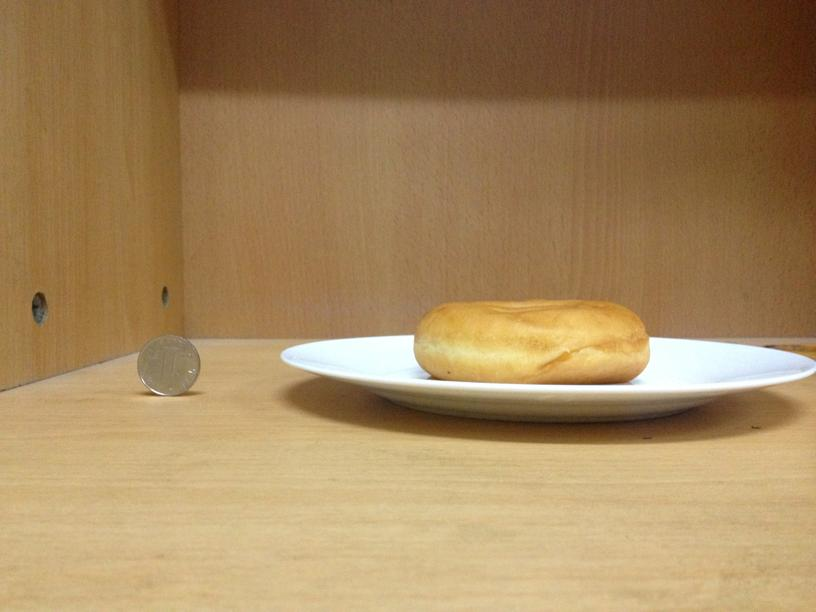coin: (134, 333, 201, 396)
doughnut: (410, 299, 650, 384)
